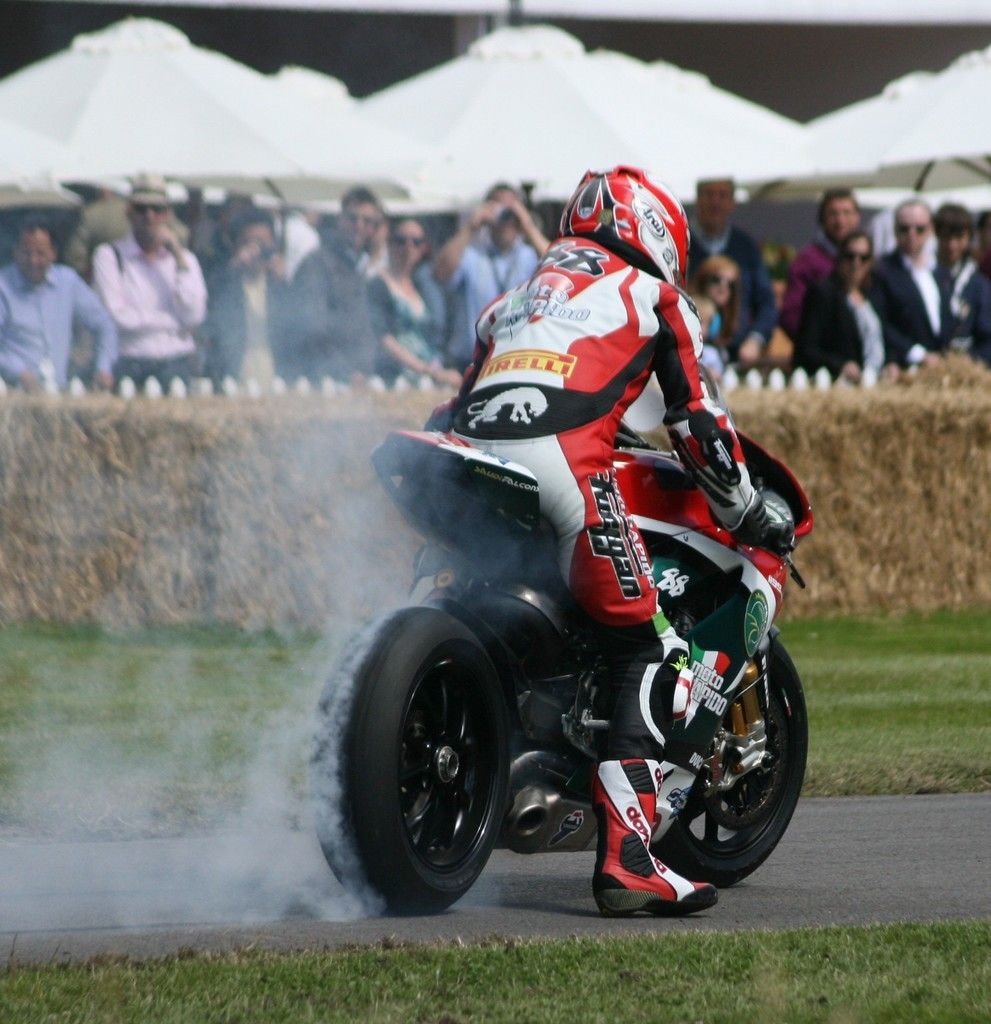Motorcycle: (332, 396, 817, 918)
